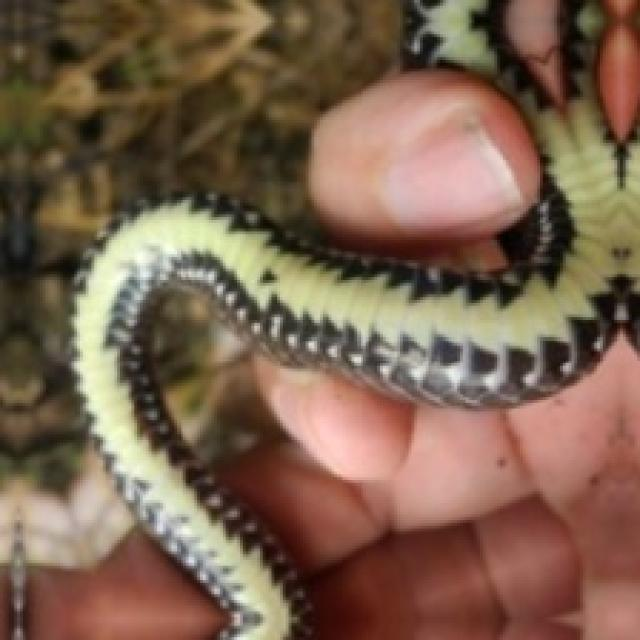reinhardts lined snake: (75, 0, 640, 640)
